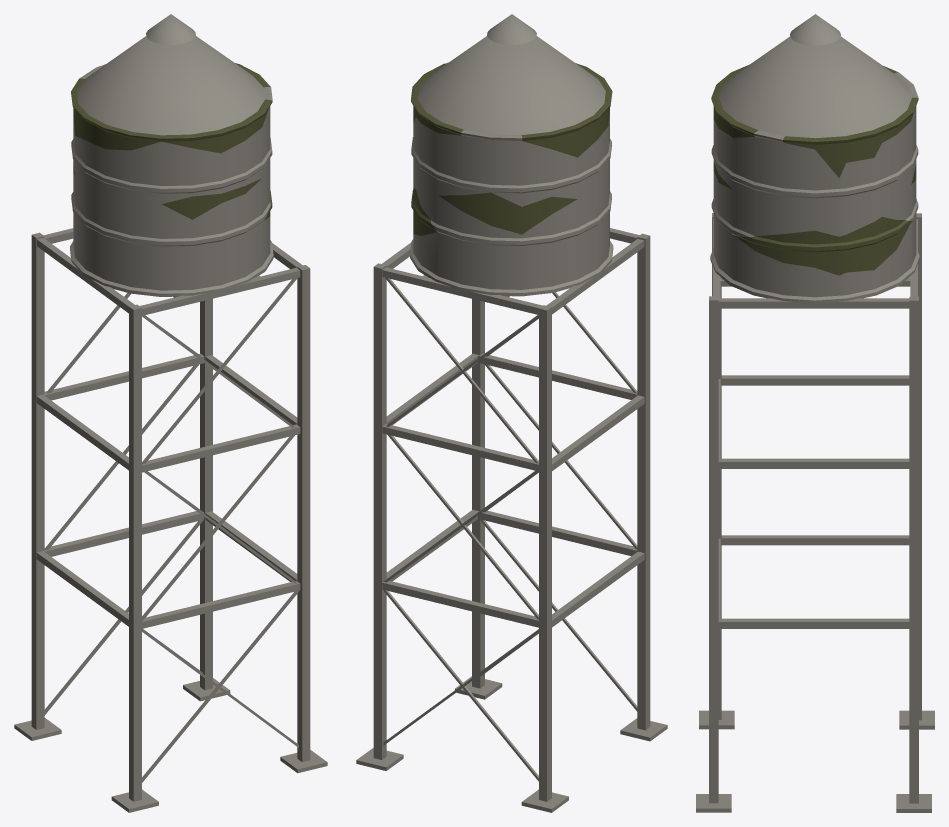
File: q-water-tower-tmk8bhapak.glb
3 renders of one model, left to right at view 1: azimuth 30°, elevation 25°; view 2: azimuth 150°, elevation 25°; view 3: azimuth 270°, elevation 25°, orthographic. The views are drawn at different scales.
Parts seen in each view (by area): view 1: WaterTower; view 2: WaterTower; view 3: WaterTower.
Part boxes in pixels (<box>): WaterTower: <box>14,14,327,812</box>; WaterTower: <box>356,14,667,812</box>; WaterTower: <box>696,14,934,812</box>.
Bounding box in the file's own units: 2.65 × 9.38 × 2.71.
Materials: 1 (1 with a texture image).
